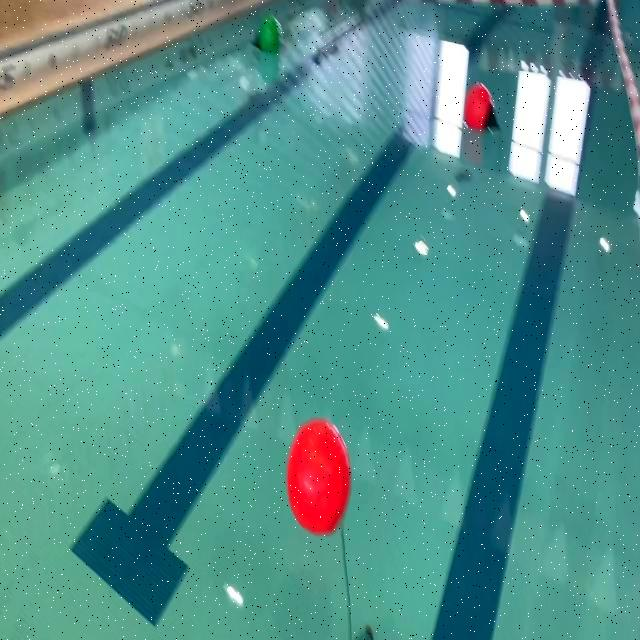buoy: (286, 415, 352, 535), (464, 82, 499, 132), (252, 14, 282, 54)
